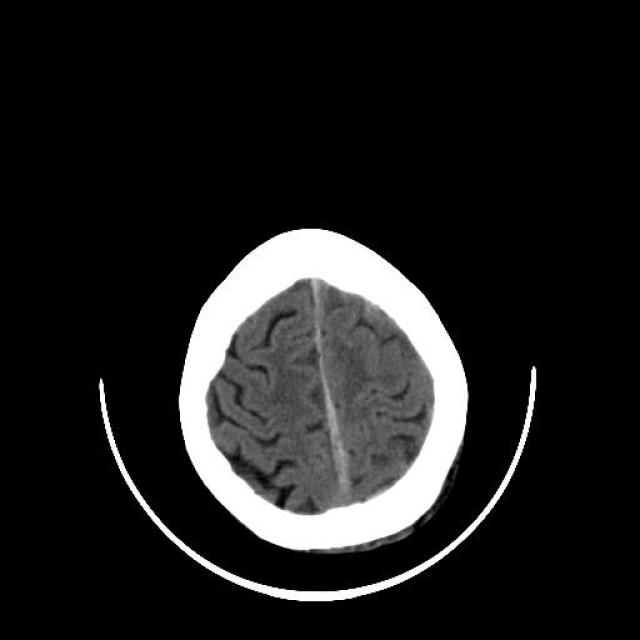Subdural: (279, 268, 371, 512)
